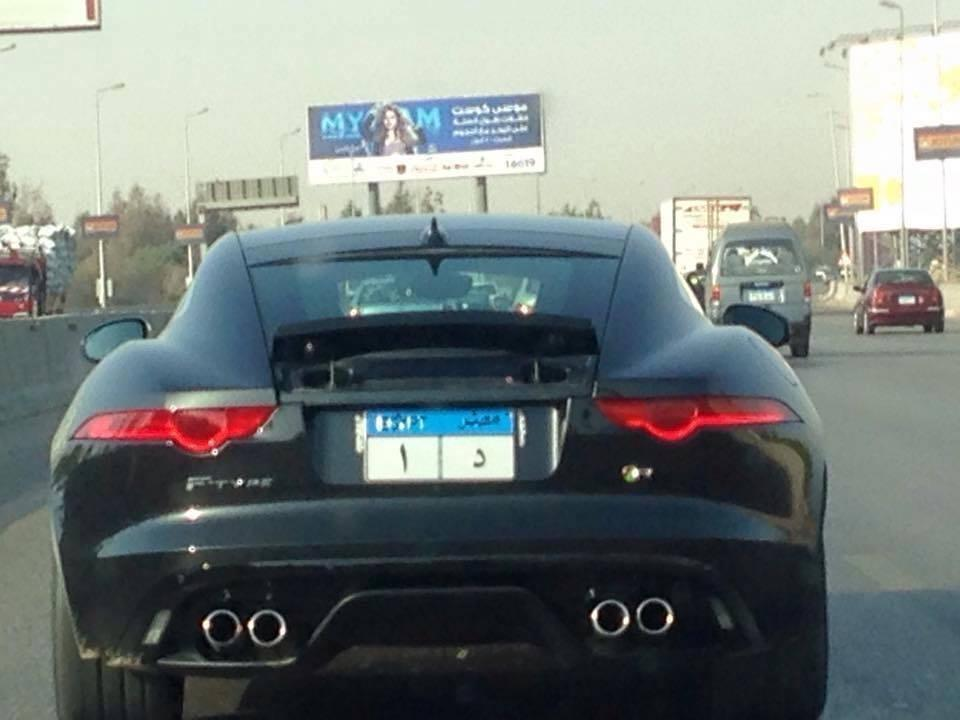1: (393, 441, 412, 473)
License Plate: (362, 404, 519, 485), (898, 296, 916, 304)
car: (49, 210, 825, 720), (700, 221, 812, 353), (654, 197, 748, 280), (845, 266, 949, 339), (3, 224, 77, 317)
daal: (472, 445, 487, 469)
